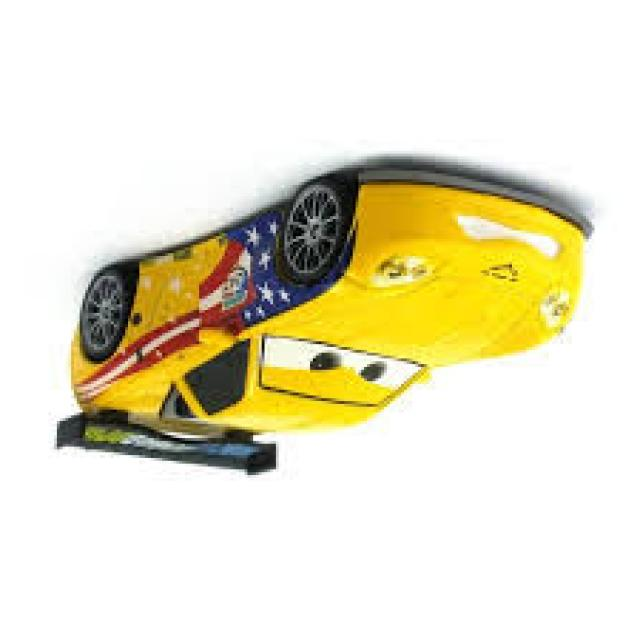Car: (57, 168, 594, 478)
